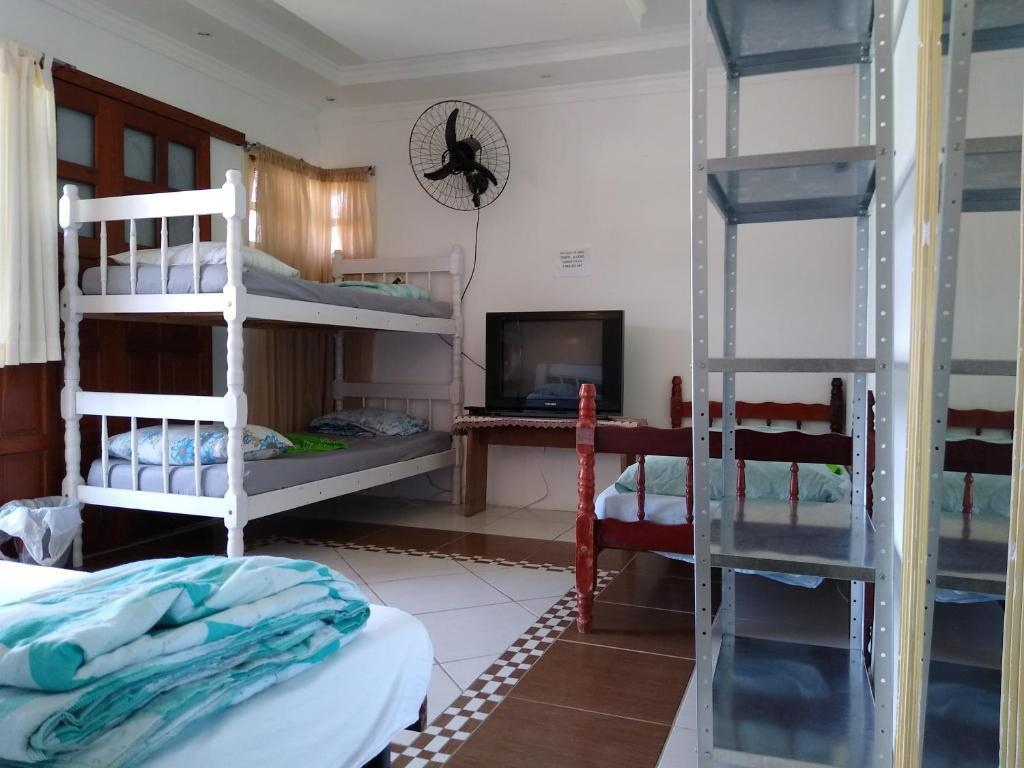bed: (80, 155, 465, 353)
